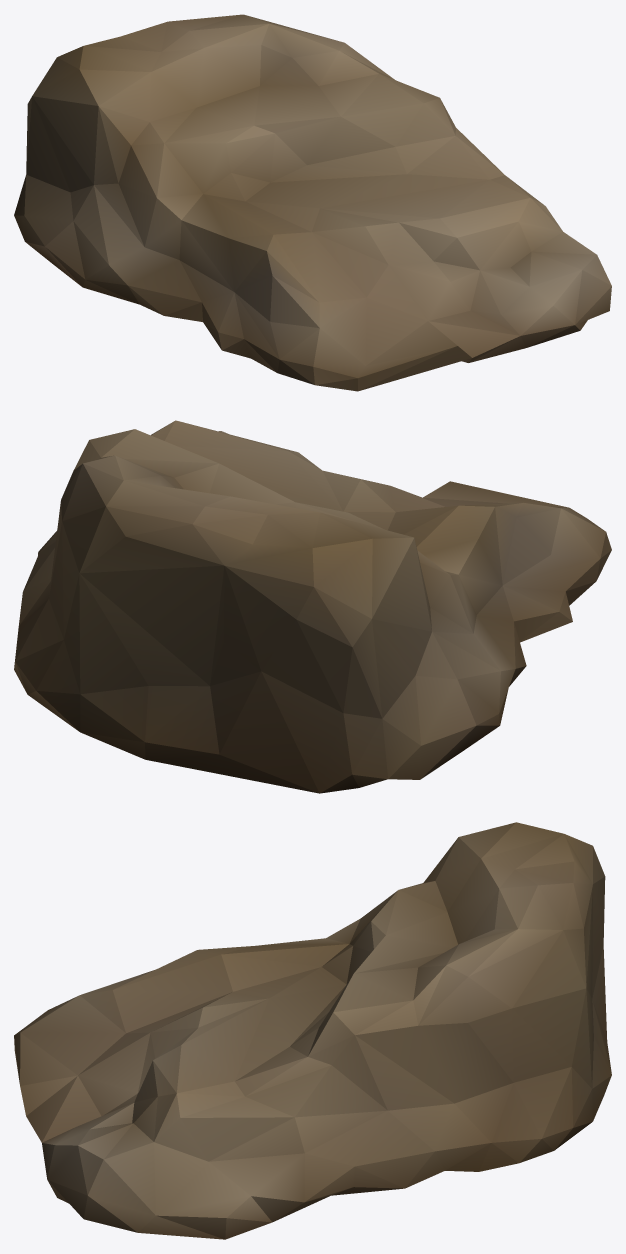
The model's file is quarry.glb.
3 renders of one model, top to bottom at view 1: azimuth 30°, elevation 25°; view 2: azimuth 150°, elevation 25°; view 3: azimuth 270°, elevation 25°, orthographic. The views are drawn at different scales.
Parts seen in each view (by area): view 1: model.001; view 2: model.001; view 3: model.001.
Boxes of the visible parts, x1,y1,x2,y2 form: model.001: (14,14,611,391); model.001: (14,420,611,793); model.001: (14,822,611,1239).
Bounding box in the file's own units: 0.9116 × 0.3994 × 0.9825.
